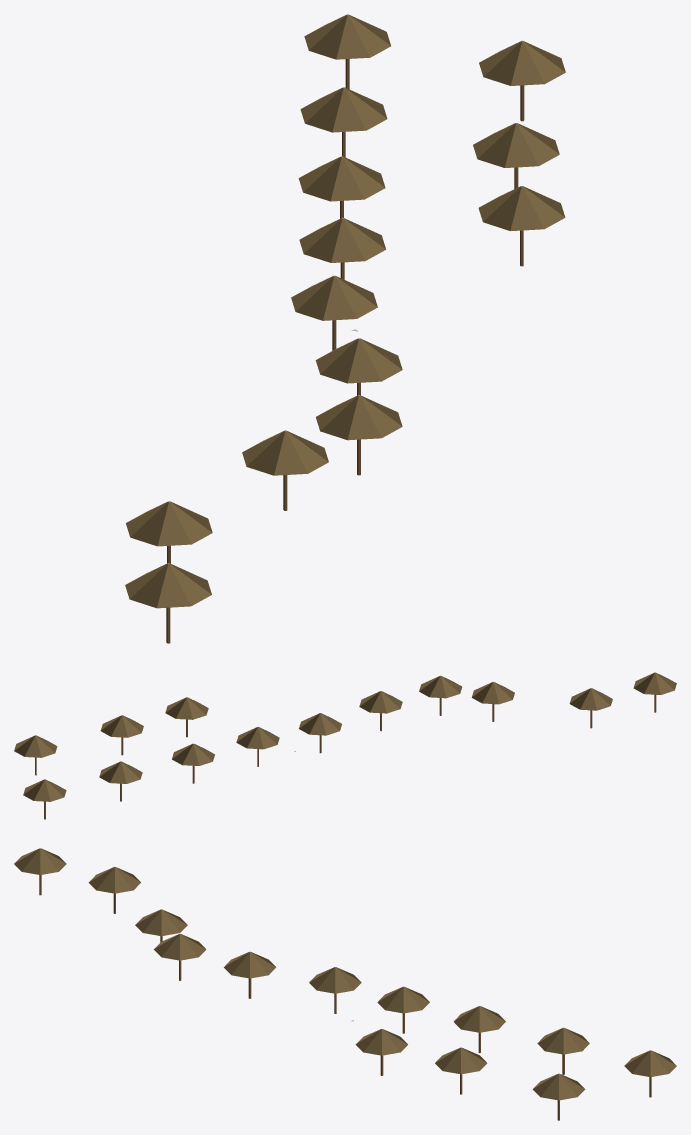
Rendered from palapa_m25_m7.glb.
3 renders of one model, top to bottom at view 1: azimuth 30°, elevation 25°; view 2: azimuth 150°, elevation 25°; view 3: azimuth 270°, elevation 25°, orthographic. The views are drawn at different scales.
Parts seen in each view (by area): view 1: palapa_m25_m7_lod0; view 2: palapa_m25_m7_lod0; view 3: palapa_m25_m7_lod0.
Part boxes in pixels (<box>): palapa_m25_m7_lod0: <box>125,14,565,643</box>; palapa_m25_m7_lod0: <box>14,672,676,819</box>; palapa_m25_m7_lod0: <box>14,848,676,1120</box>.
Size of what is drawn, in the model's own units: 38.1 by 3.71 by 42.7.
